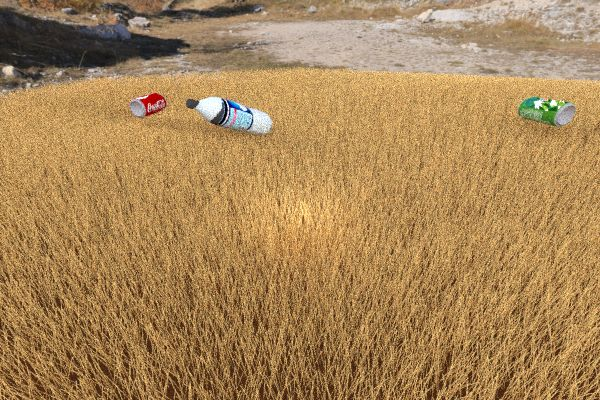Plastic Bottle: (185, 96, 272, 135), (517, 96, 575, 126), (129, 92, 166, 118)
